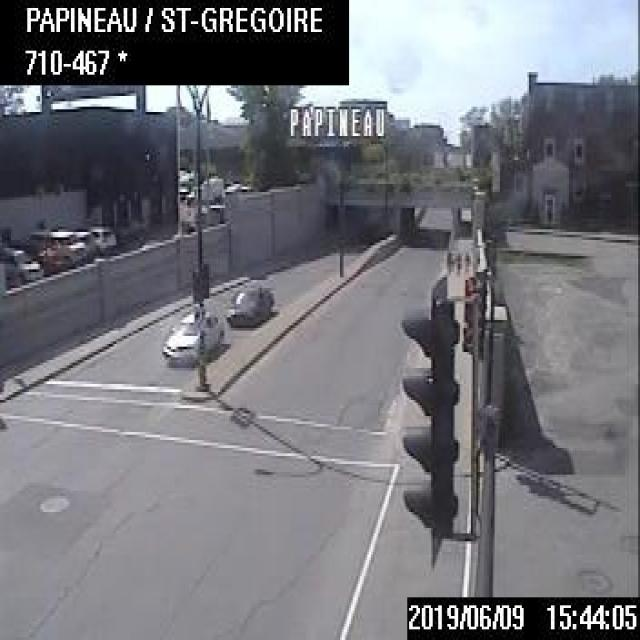pedestrian: (462, 247, 471, 277), (453, 249, 463, 274), (444, 248, 453, 275)
vehicle: (158, 309, 222, 363), (224, 279, 272, 328), (26, 230, 88, 266), (0, 246, 44, 286), (85, 224, 115, 253)
